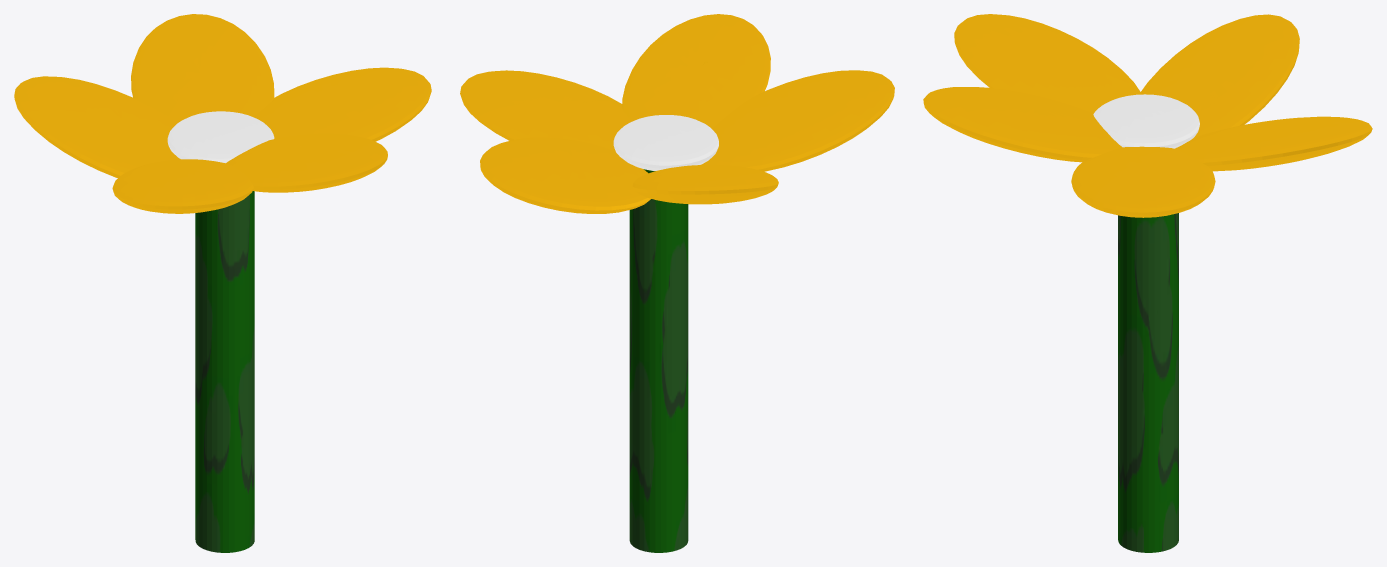
The model's file is item-flower-orange.glb.
3 views of the same model, side by side, from view 1: azimuth 30°, elevation 25°; view 2: azimuth 150°, elevation 25°; view 3: azimuth 270°, elevation 25° (orthographic). The views are drawn at different scales.
Bounding box in the file's own units: 1.3 × 1.54 × 1.36.
Materials: 3 (1 with a texture image).
